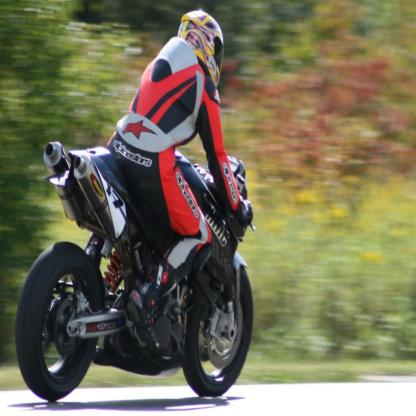Helmet: (174, 15, 224, 75)
